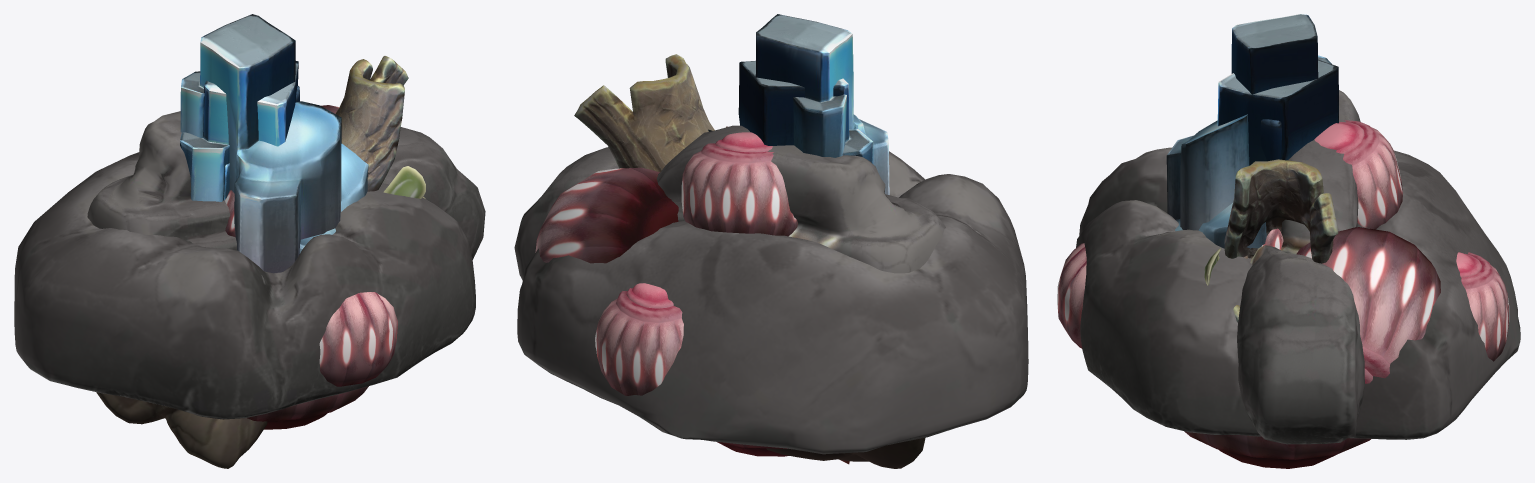
Rendered from ores.glb.
3 views of the same model, side by side, from view 1: azimuth 30°, elevation 25°; view 2: azimuth 150°, elevation 25°; view 3: azimuth 270°, elevation 25° (orthographic). The views are drawn at different scales.
Parts seen in each view (by area): view 1: BlueOre_deposit_low, Rock_ore_Deposit_low, cristal rock_low, Ore_wood_low, Ore_Deposit_Red, TreeOre_low, Ore_Red_low; view 2: BlueOre_deposit_low, Ore_Deposit_Red, Rock_ore_Deposit_low, Ore_wood_low, cristal rock_low, TreeOre_low, Ore_Red_low; view 3: BlueOre_deposit_low, Rock_ore_Deposit_low, Ore_Deposit_Red, Ore_wood_low, cristal rock_low, Ore_Red_low, Ore_Blue_low.
Part boxes in pixels (box(x1,y1,x2,y2)): BlueOre_deposit_low: box(14, 14, 475, 419); Rock_ore_Deposit_low: box(87, 111, 485, 259); cristal rock_low: box(180, 61, 368, 253); Ore_wood_low: box(335, 56, 425, 198); Ore_Deposit_Red: box(225, 105, 397, 386); TreeOre_low: box(96, 392, 267, 468); Ore_Red_low: box(247, 386, 368, 429); BlueOre_deposit_low: box(517, 14, 1028, 454); Ore_Deposit_Red: box(535, 132, 797, 395); Rock_ore_Deposit_low: box(514, 125, 945, 280); Ore_wood_low: box(574, 54, 714, 172); cristal rock_low: box(708, 60, 873, 163); TreeOre_low: box(766, 437, 925, 468); Ore_Red_low: box(717, 442, 788, 456); BlueOre_deposit_low: box(1076, 14, 1520, 439); Rock_ore_Deposit_low: box(1237, 90, 1369, 444); Ore_Deposit_Red: box(1057, 120, 1509, 383); Ore_wood_low: box(1204, 159, 1338, 322); cristal rock_low: box(1175, 59, 1338, 248); Ore_Red_low: box(1184, 431, 1370, 468); Ore_Blue_low: box(1260, 119, 1281, 161).
Size of the model in its own units: 0.558 by 0.4811 by 0.4718.
Materials: 3 (3 with a texture image).
